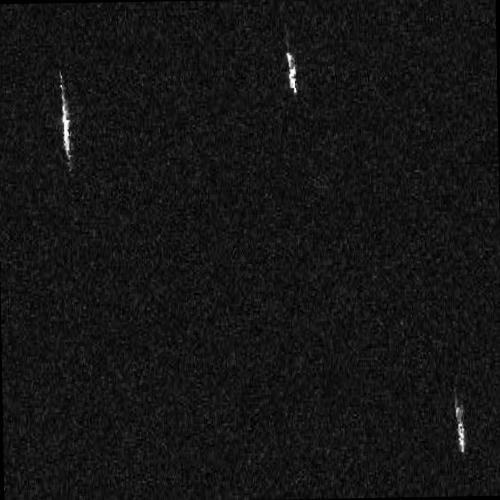ship: (59, 72, 72, 160), (453, 387, 467, 455), (286, 41, 298, 98)
